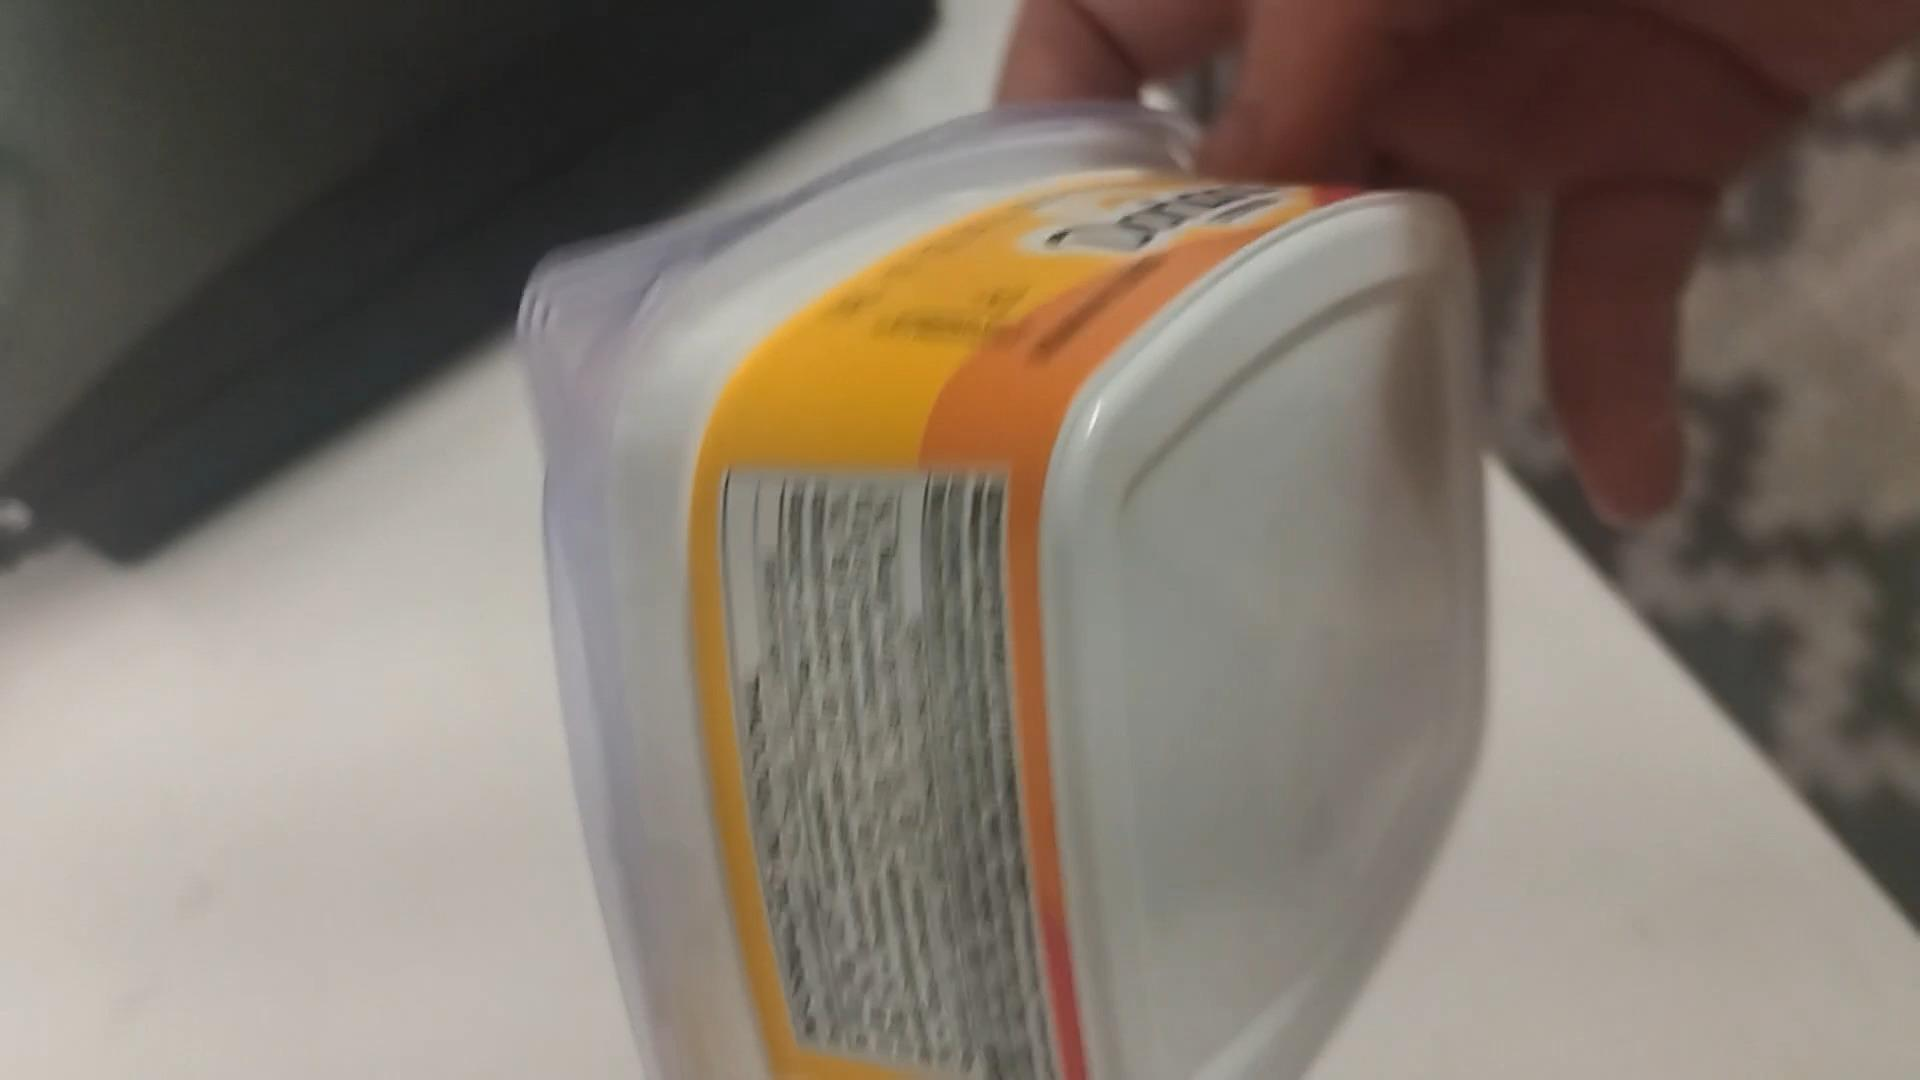butter: (516, 80, 1510, 1080)
